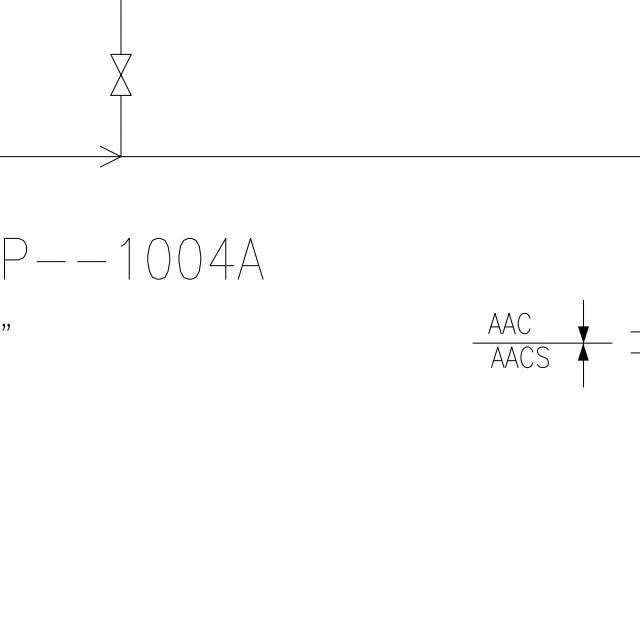GV: (108, 49, 135, 102)
